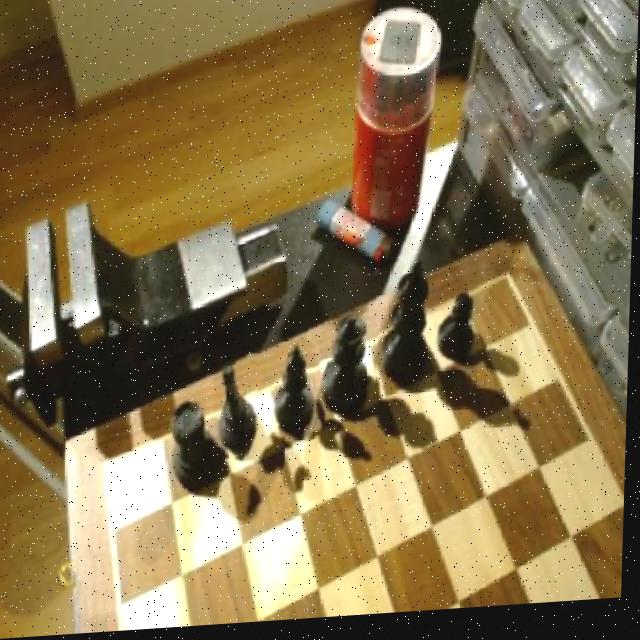bishop: (274, 343, 321, 441)
black-bishop: (376, 268, 433, 394)
black-king: (214, 358, 264, 464)
black-knight: (436, 294, 482, 365)
black-pawn: (322, 310, 382, 418)
black-queen: (163, 397, 215, 493)
